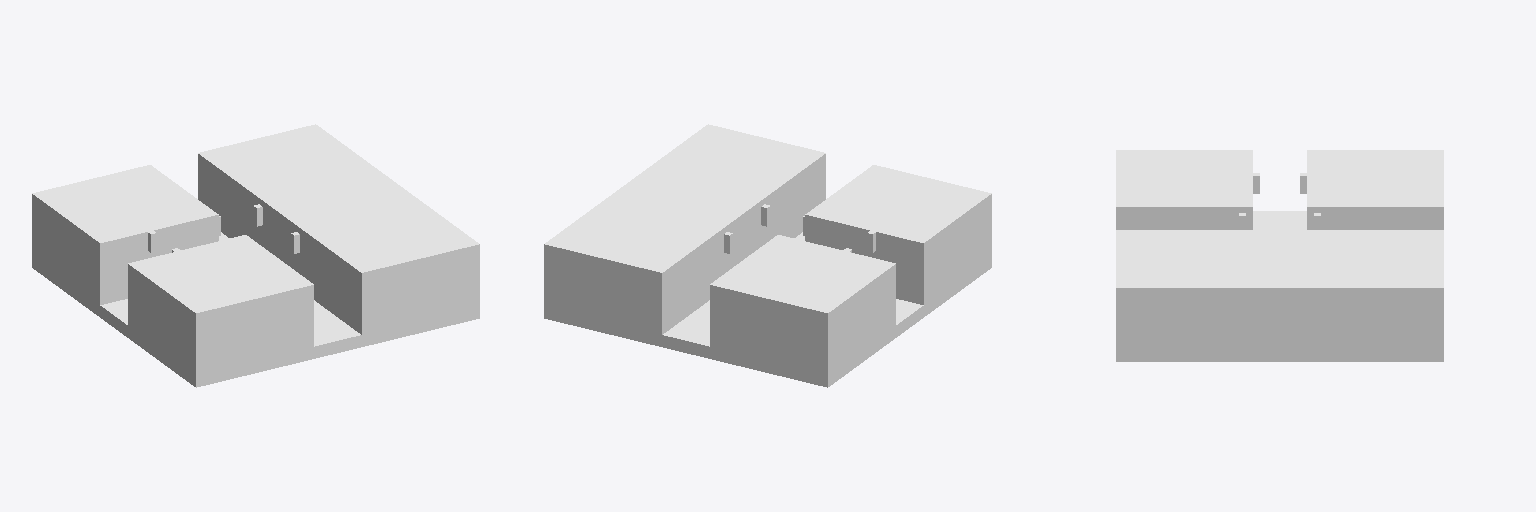
Rendered from Left-Elbow-Room-00.obj.
3 views of the same model, side by side, from view 1: azimuth 30°, elevation 25°; view 2: azimuth 150°, elevation 25°; view 3: azimuth 270°, elevation 25° (orthographic).
Bounding box in the file's own units: 48 × 12 × 48.